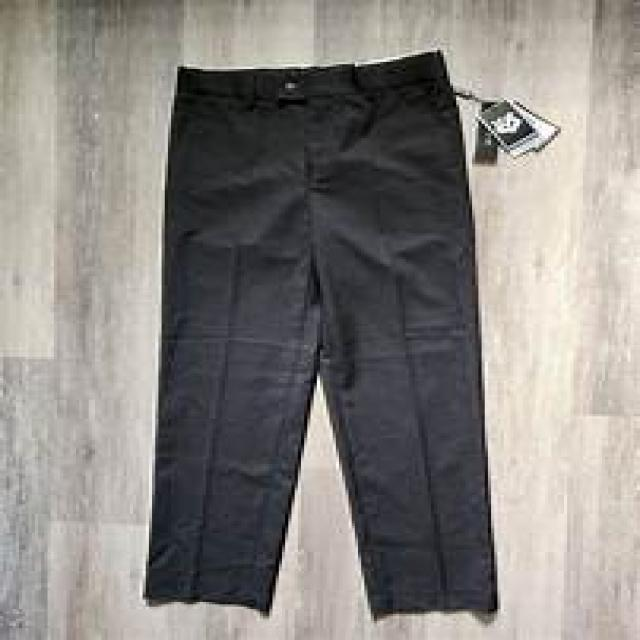long-pants: (146, 49, 504, 621)
